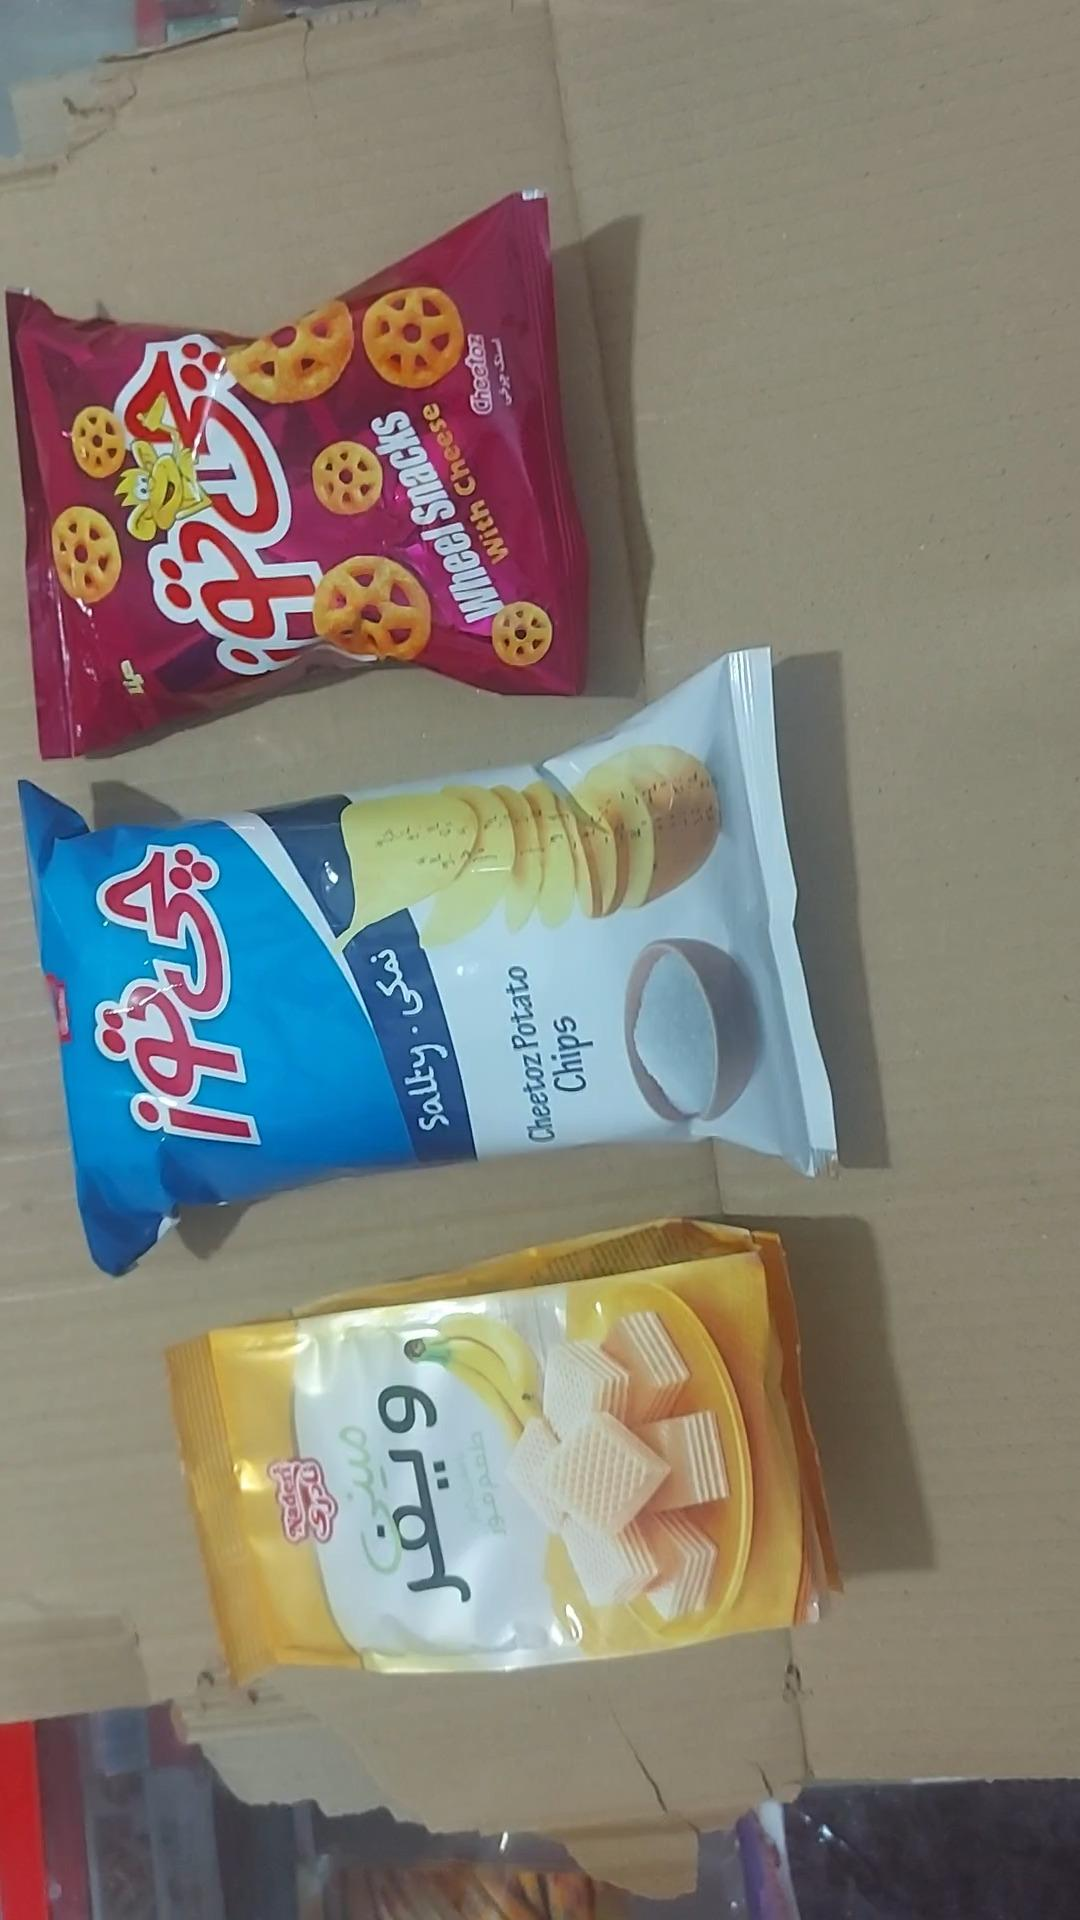Cheetoz salty chips: (16, 647, 839, 1280)
Cheetoz wheelsnack: (4, 191, 589, 761)
Naderi mini wafer: (164, 1218, 845, 1689)
